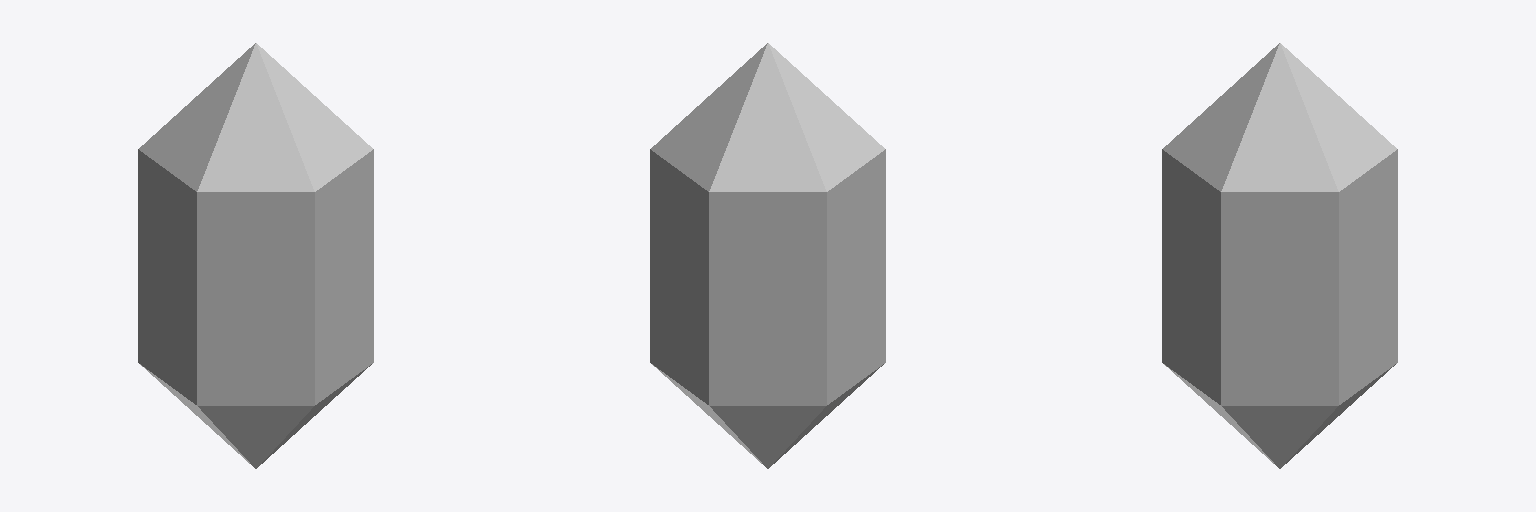
File: Selection Crystal.obj
3 views of the same model, side by side, from view 1: azimuth 30°, elevation 25°; view 2: azimuth 150°, elevation 25°; view 3: azimuth 270°, elevation 25° (orthographic).
Visible parts, largest first — view 1: Cylinder; view 2: Cylinder; view 3: Cylinder.
Part boxes in pixels (bbox=[...]): Cylinder: bbox=[138, 43, 373, 468]; Cylinder: bbox=[650, 43, 885, 468]; Cylinder: bbox=[1162, 43, 1397, 468].
Bounding box in the file's own units: 0.866 × 2 × 1.